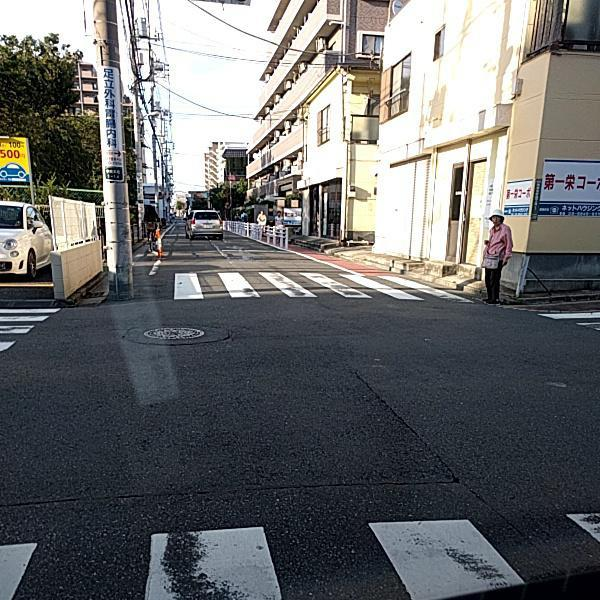D43: (173, 263, 468, 305)
D50: (140, 325, 205, 338)
